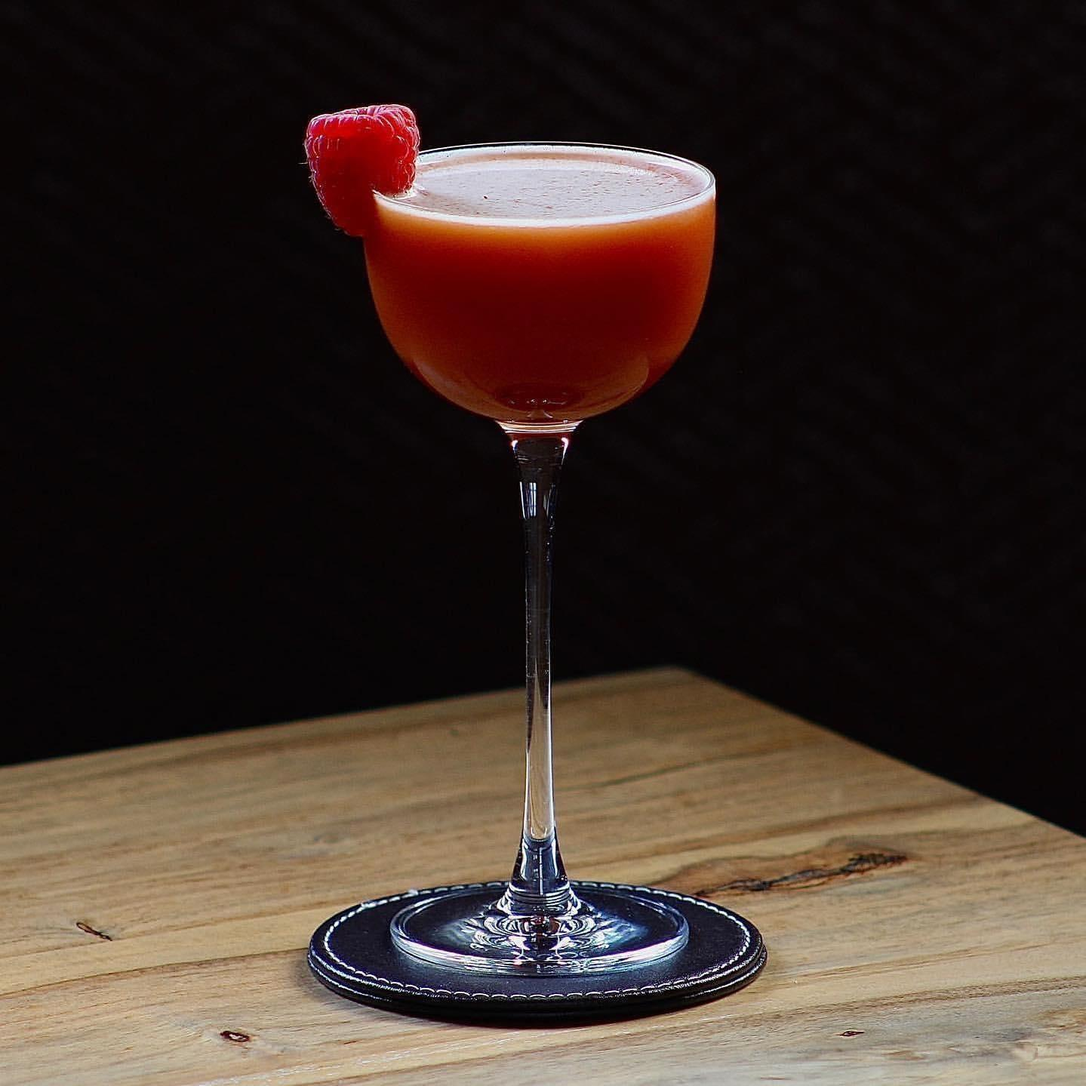glass-wine: (353, 126, 734, 991)
